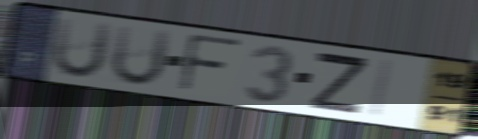3: (243, 43, 295, 105)
F: (176, 31, 245, 96)
I: (366, 57, 397, 121)
U: (108, 22, 175, 88), (49, 15, 116, 81)
Z: (309, 49, 370, 117)
